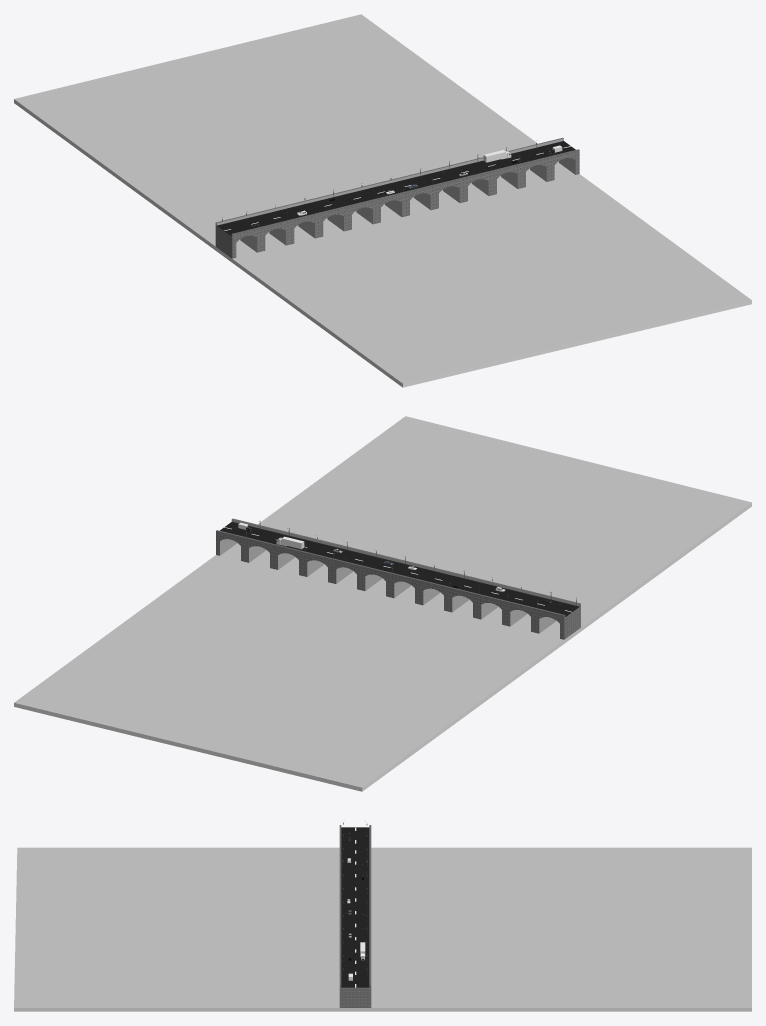
3 renders of one model, top to bottom at view 1: azimuth 30°, elevation 25°; view 2: azimuth 150°, elevation 25°; view 3: azimuth 270°, elevation 25°, orthographic. The views are drawn at different scales.
Visible parts, largest first — view 1: SketchUp.1139_ID8521, SketchUp.660_ID4700, SketchUp.1118_ID8361, SketchUp.658_ID4686, SketchUp.1116_ID8347; view 2: SketchUp.1139_ID8521, SketchUp.660_ID4700, SketchUp.1118_ID8361, SketchUp.658_ID4686, SketchUp.646_ID4594; view 3: SketchUp.1139_ID8521, SketchUp.1118_ID8361, SketchUp.658_ID4686, SketchUp.660_ID4700, SketchUp.645_ID4586, SketchUp.1175_ID8790.
Boxes of the visible parts, box(x1,y1,x2,y2) form: SketchUp.1139_ID8521: box(14, 14, 751, 383); SketchUp.660_ID4700: box(215, 150, 579, 258); SketchUp.1118_ID8361: box(217, 141, 575, 235); SketchUp.658_ID4686: box(14, 99, 751, 387); SketchUp.1116_ID8347: box(216, 138, 563, 225); SketchUp.1139_ID8521: box(14, 416, 751, 787); SketchUp.660_ID4700: box(216, 531, 580, 639); SketchUp.1118_ID8361: box(220, 522, 579, 616); SketchUp.658_ID4686: box(14, 502, 751, 791); SketchUp.646_ID4594: box(231, 519, 579, 606); SketchUp.1139_ID8521: box(14, 847, 751, 1007); SketchUp.1118_ID8361: box(341, 827, 369, 987); SketchUp.658_ID4686: box(14, 1008, 751, 1011); SketchUp.660_ID4700: box(339, 985, 371, 1007); SketchUp.645_ID4586: box(369, 825, 371, 985); SketchUp.1175_ID8790: box(339, 825, 341, 985).
Size of the model in its own units: 219 by 21.41 by 427.
